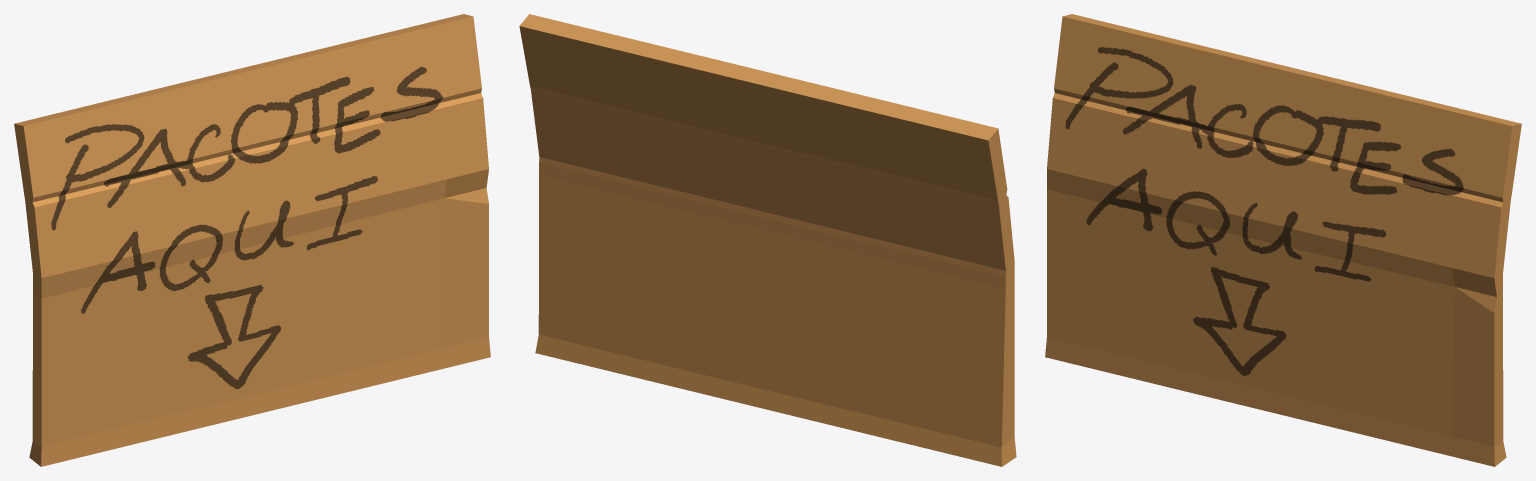
File: PlacaPapelao.fbx
The picture shows the model from 3 angles, left to right: view 1: azimuth 30°, elevation 25°; view 2: azimuth 150°, elevation 25°; view 3: azimuth 330°, elevation 25°; orthographic projection. The views are drawn at different scales.
Parts seen in each view (by area): view 1: CaixaIndicador; view 2: CaixaIndicador; view 3: CaixaIndicador.
Boxes of the visible parts, box(x1,y1,x2,y2) form: CaixaIndicador: box(14, 14, 490, 466); CaixaIndicador: box(519, 14, 1016, 466); CaixaIndicador: box(1045, 14, 1521, 466).
Bounding box in the file's own units: 2.73 × 1.9 × 0.284.
